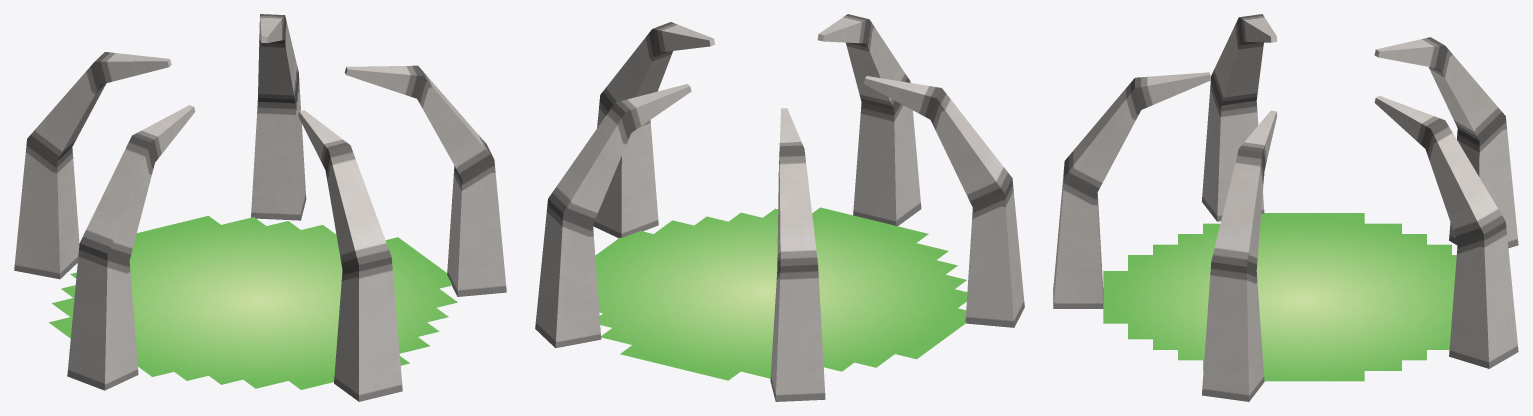
The model's file is BudowanieNieumarli.fbx.
3 renders of one model, left to right at view 1: azimuth 30°, elevation 25°; view 2: azimuth 150°, elevation 25°; view 3: azimuth 270°, elevation 25°, orthographic.
Visible parts, largest first — view 1: Cube; view 2: Cube; view 3: Cube.
Part boxes in pixels (x1,y1,x2,y2): Cube: [14, 14, 506, 401]; Cube: [535, 14, 1024, 401]; Cube: [1053, 14, 1518, 401].
Bounding box in the file's own units: 1375 × 698 × 1307.
